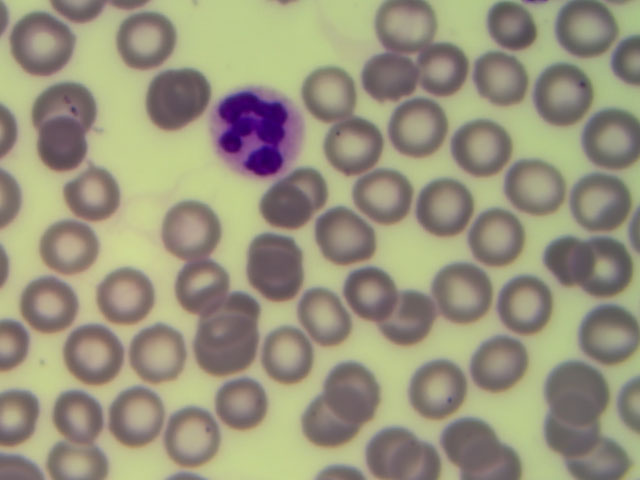RBC: (6, 7, 75, 73), (104, 9, 173, 75), (141, 61, 210, 127), (29, 83, 98, 149), (29, 115, 98, 181), (56, 163, 125, 229), (43, 214, 112, 280), (16, 269, 85, 335), (62, 328, 131, 394), (94, 261, 163, 327), (119, 314, 188, 380), (167, 252, 236, 318), (159, 192, 228, 258), (181, 311, 250, 377), (231, 236, 300, 302), (246, 188, 315, 254), (271, 151, 340, 217), (311, 113, 380, 179), (305, 55, 374, 121), (340, 47, 409, 113), (396, 32, 465, 98), (389, 97, 458, 163), (345, 169, 414, 235), (314, 200, 383, 266), (422, 170, 491, 236), (446, 121, 515, 187), (459, 47, 528, 113), (472, 2, 541, 68), (529, 55, 598, 121), (561, 8, 630, 74), (571, 108, 640, 174), (563, 170, 632, 236), (571, 230, 640, 296), (540, 231, 609, 297), (484, 267, 553, 333), (470, 207, 539, 273), (492, 145, 561, 211), (431, 254, 500, 320), (380, 281, 449, 347), (341, 269, 410, 335), (289, 288, 358, 354), (260, 325, 329, 391), (216, 374, 285, 440), (163, 403, 232, 469), (114, 387, 183, 453), (46, 385, 115, 451), (301, 386, 370, 452), (321, 347, 390, 413), (406, 354, 475, 420), (461, 326, 530, 392), (530, 356, 599, 422), (526, 403, 595, 469), (571, 304, 640, 370), (384, 1, 453, 66)
WBC: (210, 89, 298, 176)
